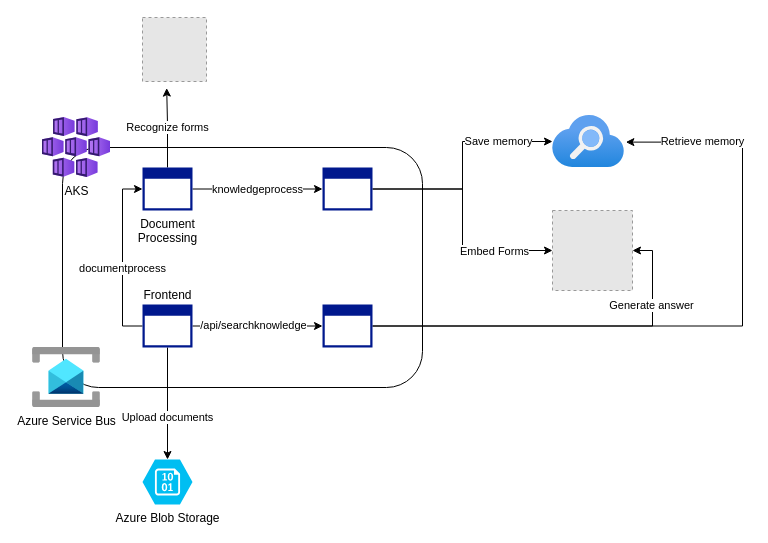
Image size: 768x543. Some labels were removed from this diagram. Grey dashed boxes stand in for pictures. Here are the shapes that lost their labels. From the top down, the box of each, then its label:
(322, 167, 372, 210): Knowledge Processing
(322, 304, 372, 347): Search Knowledge
